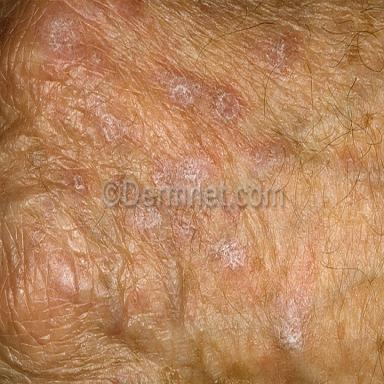lichen: (269, 238, 315, 351), (156, 64, 241, 121), (40, 11, 77, 76), (234, 138, 290, 180), (148, 149, 215, 182), (213, 217, 247, 270), (269, 27, 302, 76), (100, 113, 143, 143), (132, 206, 163, 231), (73, 172, 86, 192)
